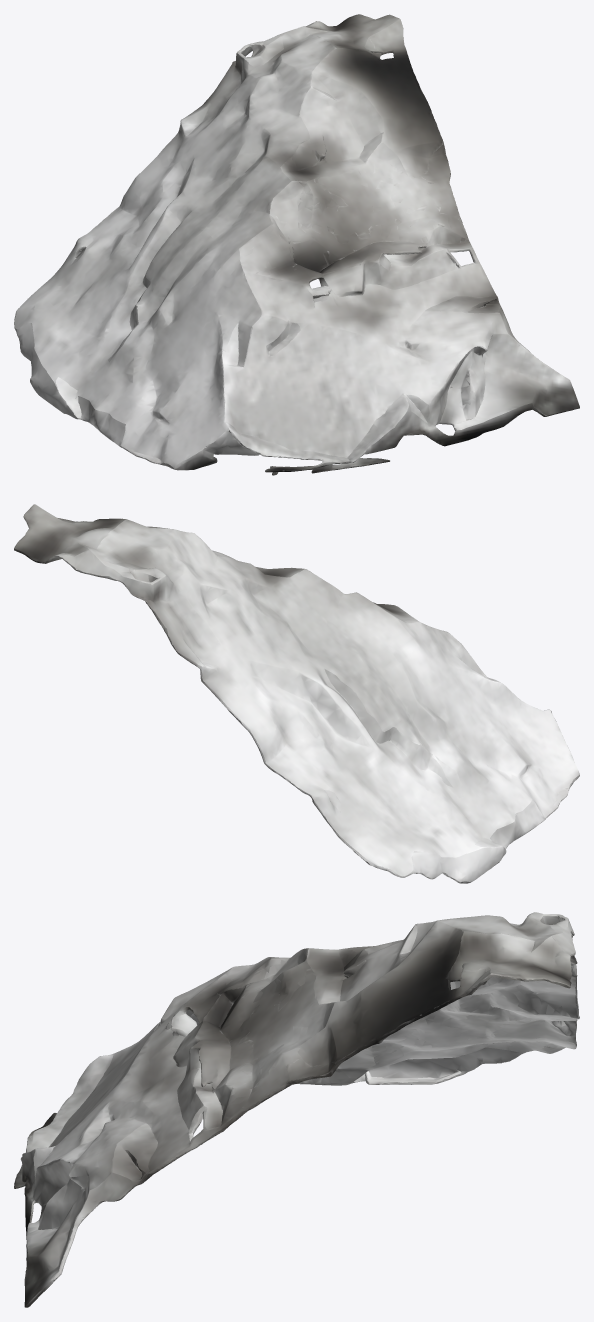
3 renders of one model, top to bottom at view 1: azimuth 30°, elevation 25°; view 2: azimuth 150°, elevation 25°; view 3: azimuth 270°, elevation 25°, orthographic. The views are drawn at different scales.
Parts seen in each view (by area): view 1: world; view 2: world; view 3: world.
Part boxes in pixels (bbox=[...]): world: bbox=[14, 14, 579, 475]; world: bbox=[14, 504, 579, 883]; world: bbox=[14, 912, 579, 1307].
Bounding box in the file's own units: 0.12 × 0.0807 × 0.1187.
Materials: 1 (1 with a texture image).
